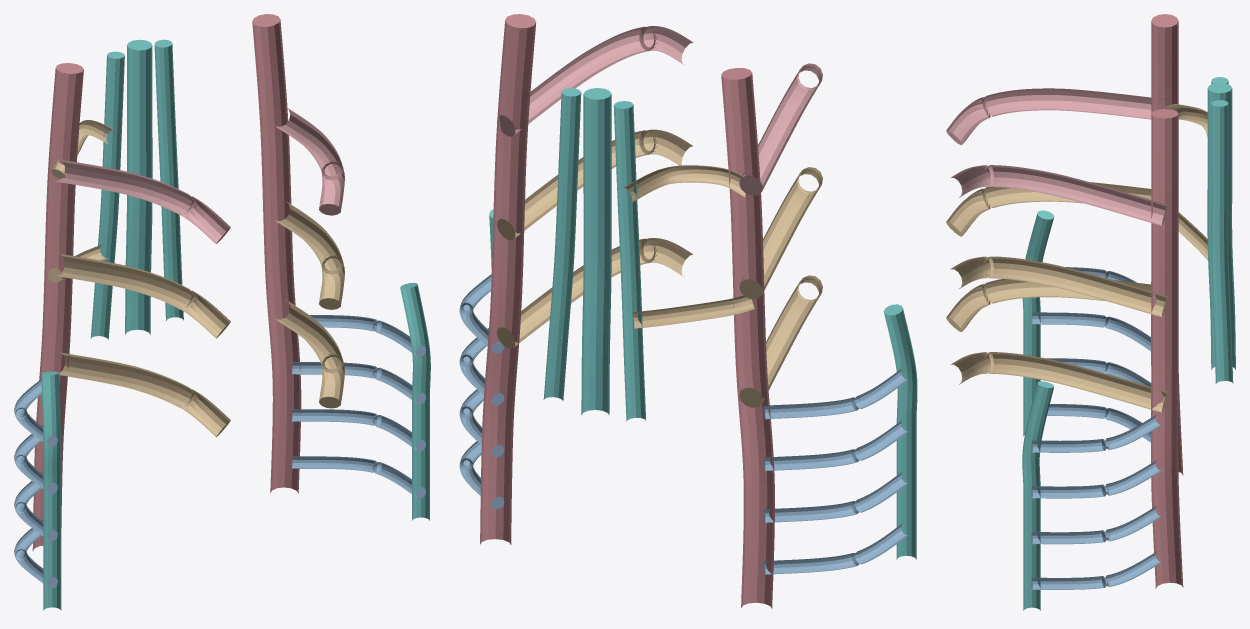
The model's file is embryo_etapa3.glb.
The picture shows the model from 3 angles, left to right: view 1: azimuth 30°, elevation 25°; view 2: azimuth 150°, elevation 25°; view 3: azimuth 270°, elevation 25°; orthographic projection. The views are drawn at different scales.
Visible parts, largest first — view 1: Aorta dorsal primitiva — lado direito, Aorta dorsal primitiva — lado esquerdo, Basilar primitiva (fusão longitudinal), Artéria longitudinal neural — L, Artéria longitudinal neural — R, Anastomose longitudinal cervical — L, III arco arterial faríngeo — esquerdo, IV arco arterial faríngeo — esquerdo, VI arco arterial faríngeo — esquerdo, Anastomose longitudinal cervical — R, III arco arterial faríngeo — direito, VI arco arterial faríngeo — direito (+10 smaller); view 2: Aorta dorsal primitiva — lado direito, Aorta dorsal primitiva — lado esquerdo, Basilar primitiva (fusão longitudinal), Artéria longitudinal neural — R, Artéria longitudinal neural — L, Anastomose longitudinal cervical — L, III arco arterial faríngeo — direito, VI arco arterial faríngeo — direito, III arco arterial faríngeo — esquerdo, IV arco arterial faríngeo — direito, IV arco arterial faríngeo — esquerdo, VI arco arterial faríngeo — esquerdo (+10 smaller); view 3: Aorta dorsal primitiva — lado direito, Artéria longitudinal neural — R, III arco arterial faríngeo — direito, III arco arterial faríngeo — esquerdo, IV arco arterial faríngeo — direito, VI arco arterial faríngeo — direito, Anastomose longitudinal cervical — R, Aorta dorsal primitiva — lado esquerdo, Basilar primitiva (fusão longitudinal), VI arco arterial faríngeo — esquerdo, IV arco arterial faríngeo — esquerdo, Anastomose longitudinal cervical — L (+9 smaller).
Part boxes in pixels (bbox=[...]): Aorta dorsal primitiva — lado direito: bbox=[252, 14, 301, 493]; Aorta dorsal primitiva — lado esquerdo: bbox=[32, 63, 83, 551]; Basilar primitiva (fusão longitudinal): bbox=[125, 39, 152, 334]; Artéria longitudinal neural — L: bbox=[90, 51, 124, 339]; Artéria longitudinal neural — R: bbox=[154, 39, 183, 321]; Anastomose longitudinal cervical — L: bbox=[41, 371, 61, 610]; III arco arterial faríngeo — esquerdo: bbox=[55, 159, 230, 243]; IV arco arterial faríngeo — esquerdo: bbox=[55, 253, 230, 338]; VI arco arterial faríngeo — esquerdo: bbox=[59, 352, 230, 436]; Anastomose longitudinal cervical — R: bbox=[400, 282, 430, 520]; III arco arterial faríngeo — direito: bbox=[275, 106, 344, 215]; VI arco arterial faríngeo — direito: bbox=[275, 299, 344, 408]; Aorta dorsal primitiva — lado direito: bbox=[480, 14, 536, 544]; Aorta dorsal primitiva — lado esquerdo: bbox=[721, 68, 774, 608]; Basilar primitiva (fusão longitudinal): bbox=[581, 88, 611, 415]; Artéria longitudinal neural — R: bbox=[543, 88, 581, 401]; Artéria longitudinal neural — L: bbox=[613, 101, 646, 421]; Anastomose longitudinal cervical — L: bbox=[883, 304, 917, 559]; III arco arterial faríngeo — direito: bbox=[497, 26, 693, 136]; VI arco arterial faríngeo — direito: bbox=[497, 238, 692, 348]; III arco arterial faríngeo — esquerdo: bbox=[739, 63, 822, 195]; IV arco arterial faríngeo — direito: bbox=[497, 129, 692, 240]; IV arco arterial faríngeo — esquerdo: bbox=[739, 167, 822, 299]; VI arco arterial faríngeo — esquerdo: bbox=[739, 275, 822, 407]; Aorta dorsal primitiva — lado direito: bbox=[1151, 109, 1183, 588]; Artéria longitudinal neural — R: bbox=[1211, 100, 1233, 383]; III arco arterial faríngeo — direito: bbox=[951, 165, 1167, 225]; III arco arterial faríngeo — esquerdo: bbox=[946, 88, 1164, 144]; IV arco arterial faríngeo — direito: bbox=[950, 256, 1167, 317]; VI arco arterial faríngeo — direito: bbox=[951, 352, 1167, 412]; Anastomose longitudinal cervical — R: bbox=[1022, 381, 1054, 610]; Aorta dorsal primitiva — lado esquerdo: bbox=[1151, 14, 1183, 475]; Basilar primitiva (fusão longitudinal): bbox=[1207, 83, 1235, 369]; VI arco arterial faríngeo — esquerdo: bbox=[946, 279, 1150, 331]; IV arco arterial faríngeo — esquerdo: bbox=[946, 182, 1151, 236]; Anastomose longitudinal cervical — L: bbox=[1022, 210, 1054, 436].
Size of the model in its own units: 4.7 by 5.62 by 3.16.
